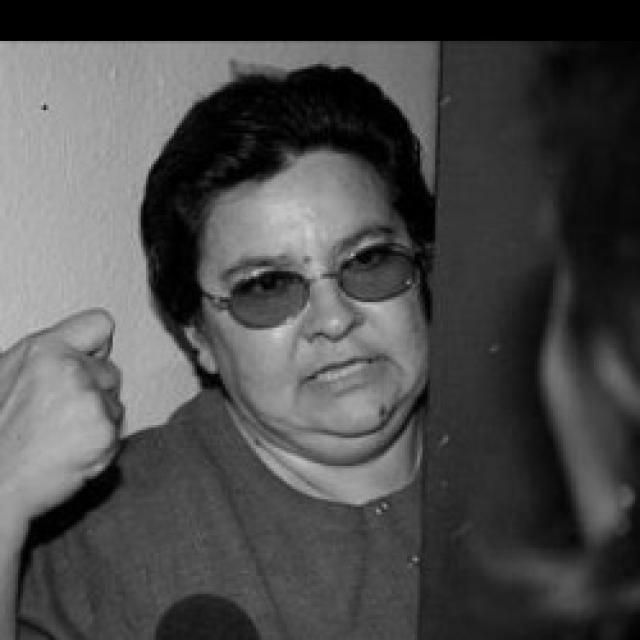real: (198, 148, 430, 438), (222, 241, 412, 315)
